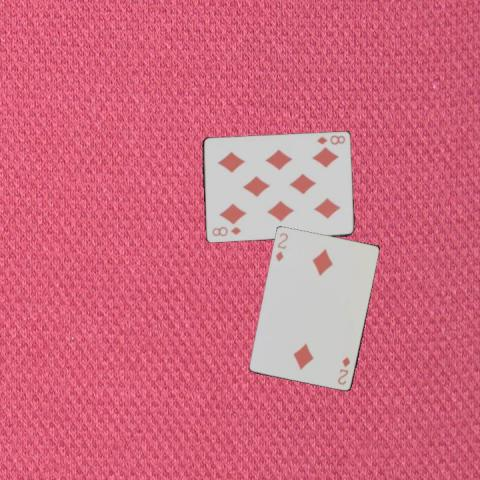2d: (273, 229, 289, 263), (335, 354, 351, 386)
8d: (209, 224, 242, 238), (313, 133, 346, 146)
